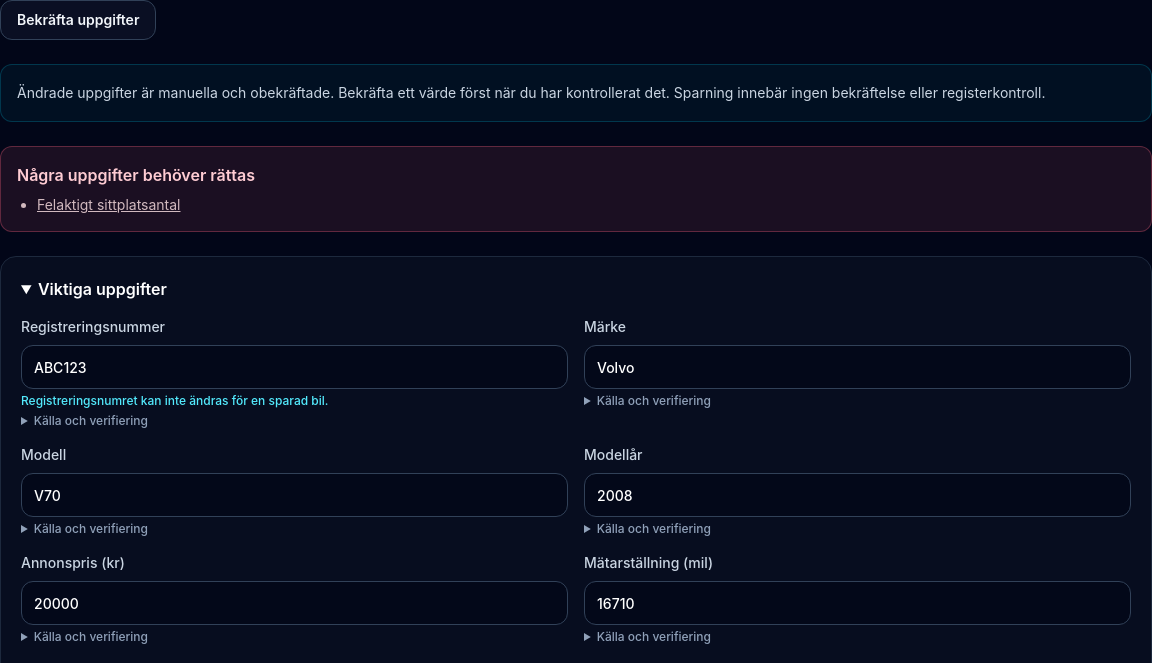
listing review evidence and error targets › opens the collapsed section and focuses the specific invalid control
Click the button "Felaktigt sittplatsantal" at (109, 205), box [37,195,180,215]
(page scrolled)
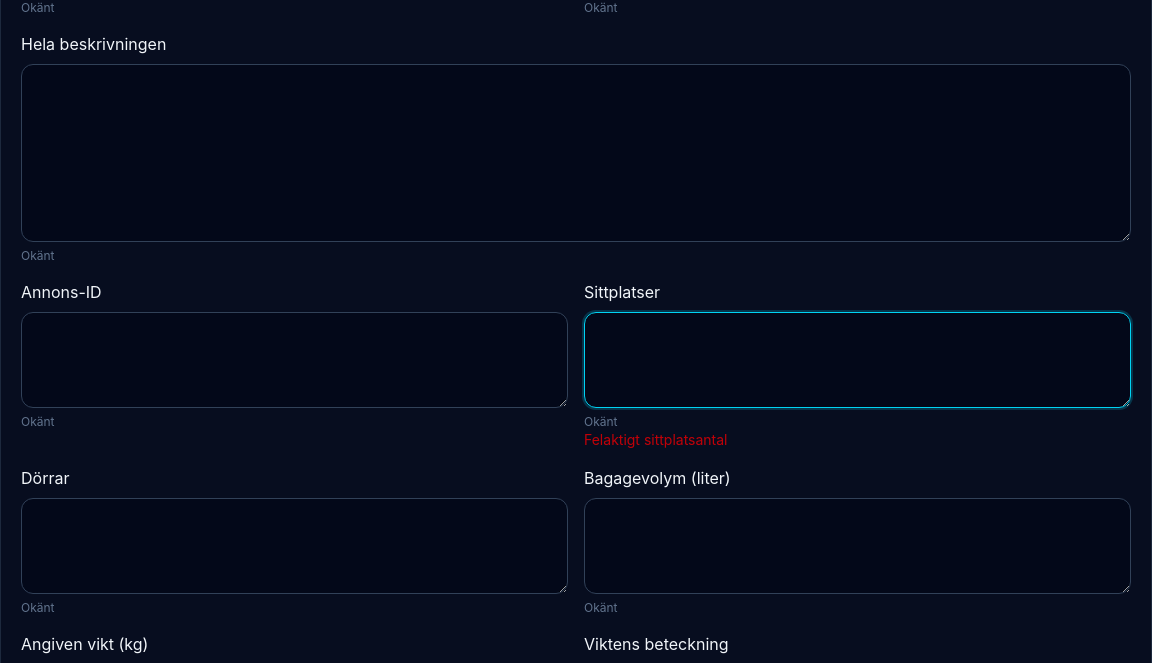
Check: the text box labelled "Sittplatser" is shown, box [584,312,1131,408]
